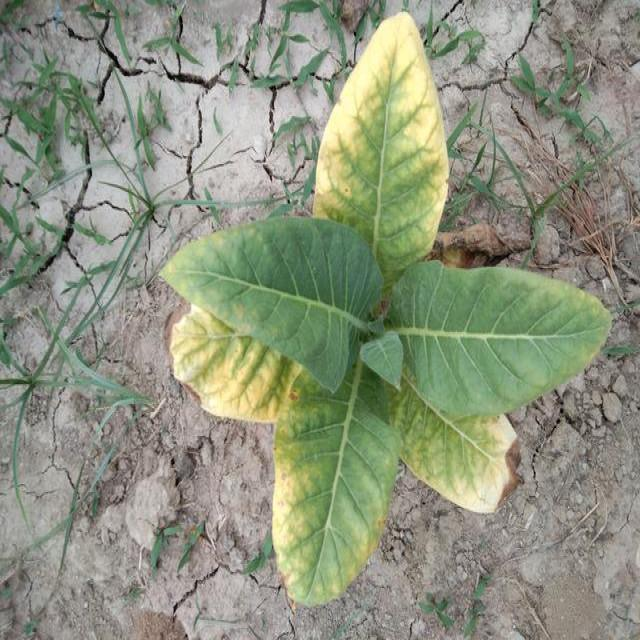crop: (186, 21, 611, 594)
